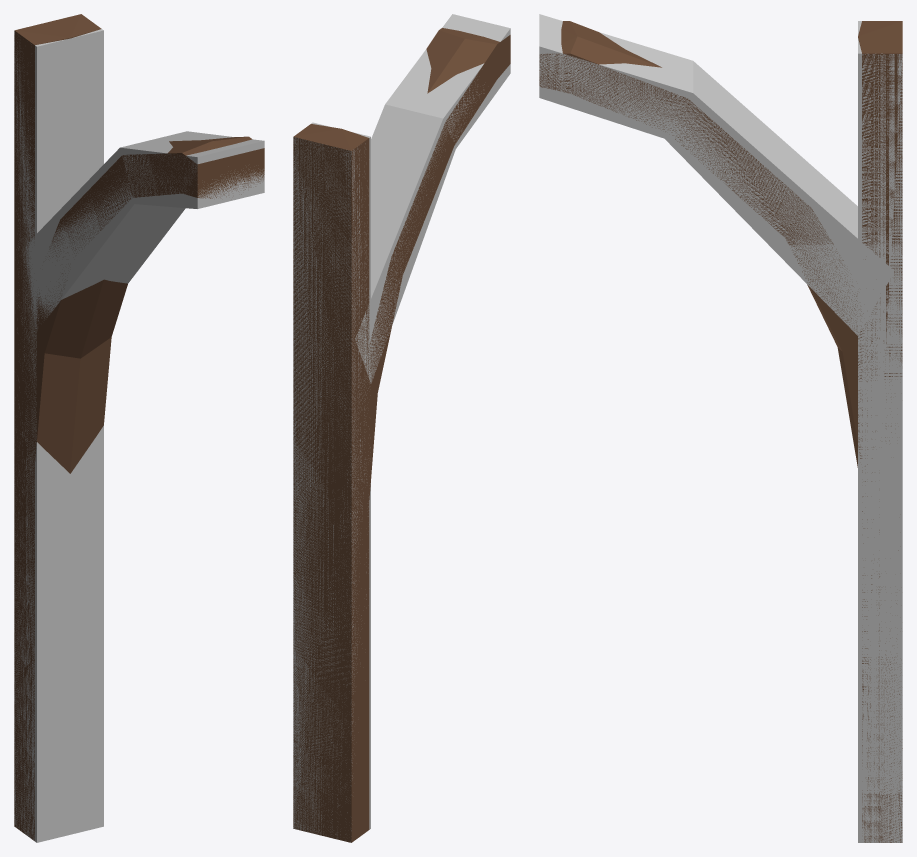
The model's file is SM_Bld_Wall_Frame_Half_04.fbx.
The picture shows the model from 3 angles, left to right: view 1: azimuth 30°, elevation 25°; view 2: azimuth 150°, elevation 25°; view 3: azimuth 270°, elevation 25°; orthographic projection. The views are drawn at different scales.
Visible parts, largest first — view 1: SM_Bld_Wall_Frame_Half_04_ConvexHulls, SM_Bld_Wall_Frame_Half_04; view 2: SM_Bld_Wall_Frame_Half_04, SM_Bld_Wall_Frame_Half_04_ConvexHulls; view 3: SM_Bld_Wall_Frame_Half_04_ConvexHulls, SM_Bld_Wall_Frame_Half_04.
Boxes of the visible parts, left/top/right/bottom form: SM_Bld_Wall_Frame_Half_04_ConvexHulls: left=14, top=29, right=264, bottom=842; SM_Bld_Wall_Frame_Half_04: left=14, top=14, right=264, bottom=840; SM_Bld_Wall_Frame_Half_04: left=293, top=28, right=510, bottom=842; SM_Bld_Wall_Frame_Half_04_ConvexHulls: left=293, top=14, right=510, bottom=841; SM_Bld_Wall_Frame_Half_04_ConvexHulls: left=539, top=14, right=902, bottom=842; SM_Bld_Wall_Frame_Half_04: left=539, top=21, right=902, bottom=842.
Size of the model in its own units: 26.42 by 125 by 303.
Materials: 2 (1 with a texture image).
